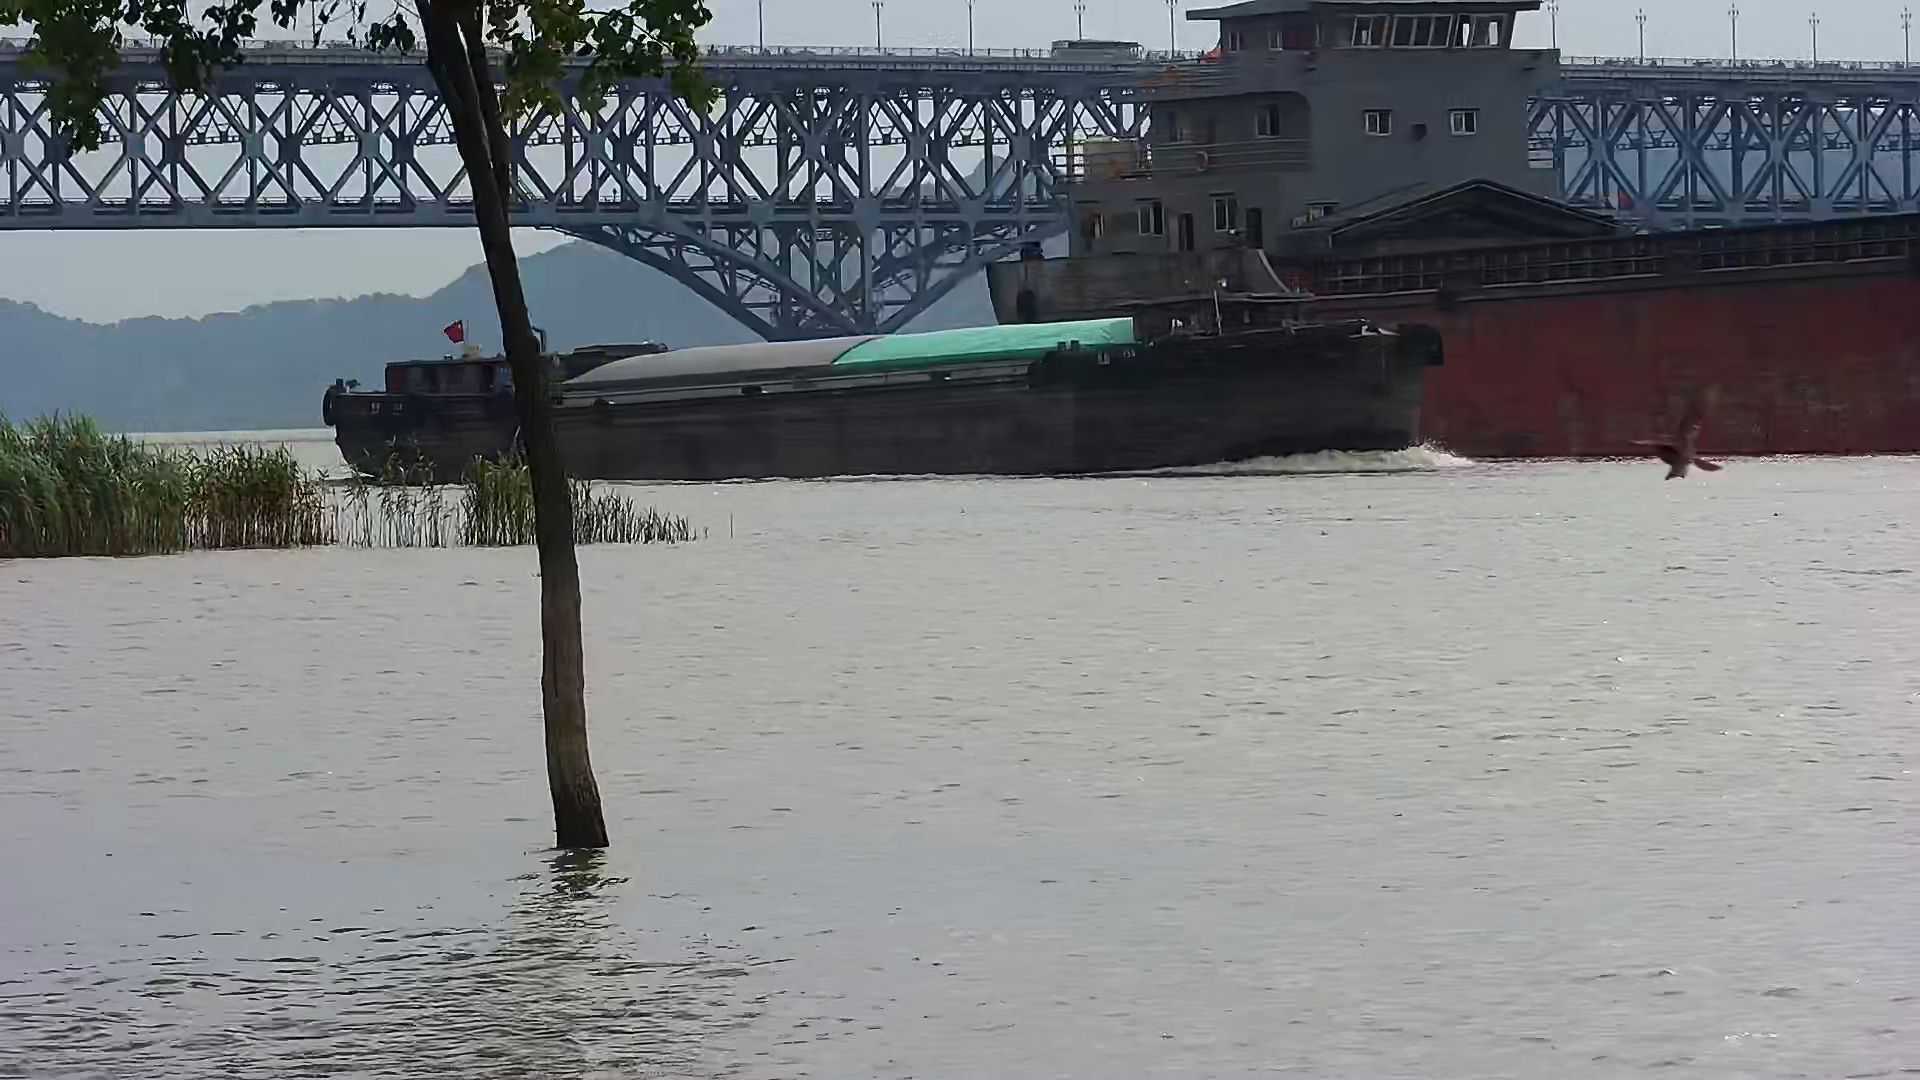bridge: (3, 1, 1919, 357)
grass: (1, 400, 738, 568)
ship: (289, 247, 1484, 485), (980, 174, 1913, 473)
tree: (1, 1, 665, 841)
